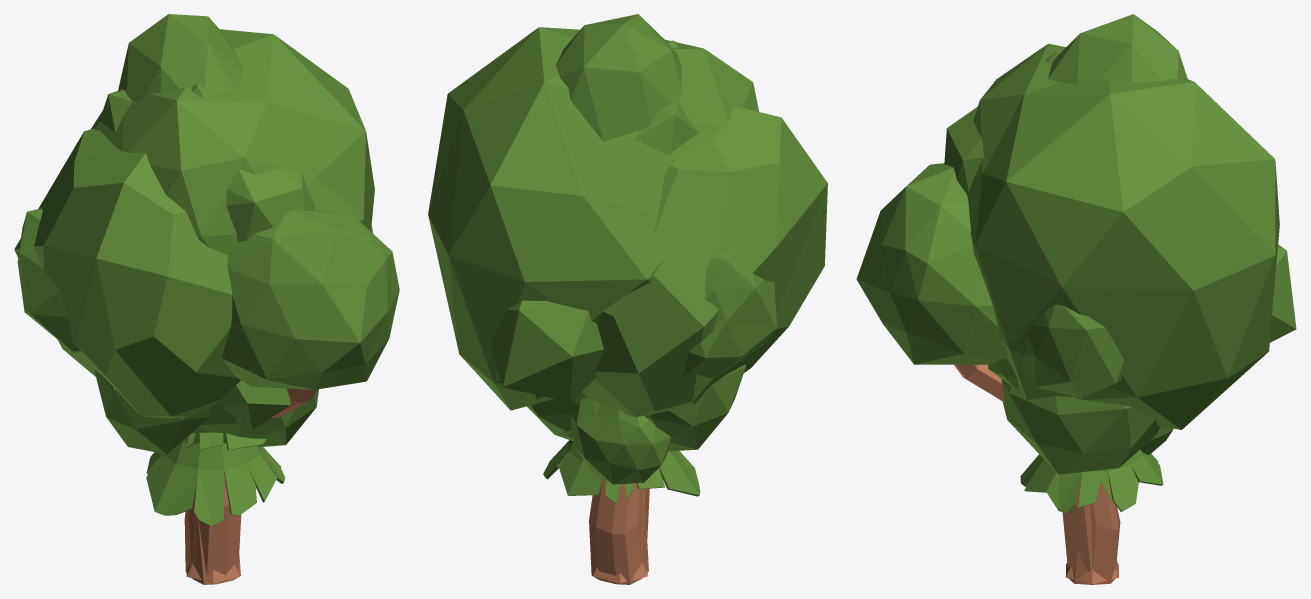
File: trees.fbx
3 views of the same model, side by side, from view 1: azimuth 30°, elevation 25°; view 2: azimuth 150°, elevation 25°; view 3: azimuth 270°, elevation 25° (orthographic). The views are drawn at different scales.
Parts seen in each view (by area): view 1: Tree 3, Tree 5, Tree 6, Tree 7, Tree 4, Tree 2, Tree 1; view 2: Tree 5, Tree 3, Tree 6, Tree 4, Tree 1, Tree 2, Tree 7; view 3: Tree 5, Tree 6, Tree 1, Tree 4, Tree 7, Tree 2.
Part boxes in pixels (x1=…): Tree 3: x1=14, y1=128, x2=240, y2=418; Tree 5: x1=91, y1=29, x2=374, y2=581; Tree 6: x1=17, y1=89, x2=399, y2=584; Tree 7: x1=146, y1=432, x2=285, y2=583; Tree 4: x1=118, y1=14, x2=242, y2=101; Tree 2: x1=191, y1=84, x2=314, y2=429; Tree 1: x1=94, y1=370, x2=318, y2=454; Tree 5: x1=428, y1=27, x2=758, y2=581; Tree 3: x1=582, y1=105, x2=827, y2=581; Tree 6: x1=532, y1=102, x2=776, y2=584; Tree 4: x1=555, y1=14, x2=682, y2=141; Tree 1: x1=527, y1=364, x2=745, y2=484; Tree 2: x1=489, y1=40, x2=678, y2=401; Tree 7: x1=543, y1=430, x2=700, y2=583; Tree 5: x1=967, y1=43, x2=1279, y2=574; Tree 6: x1=856, y1=163, x2=1124, y2=584; Tree 1: x1=988, y1=358, x2=1173, y2=474; Tree 4: x1=1048, y1=14, x2=1187, y2=82; Tree 7: x1=1020, y1=449, x2=1163, y2=584; Tree 2: x1=944, y1=51, x2=1296, y2=342.
Size of the model in its own units: 577 by 955 by 694.
